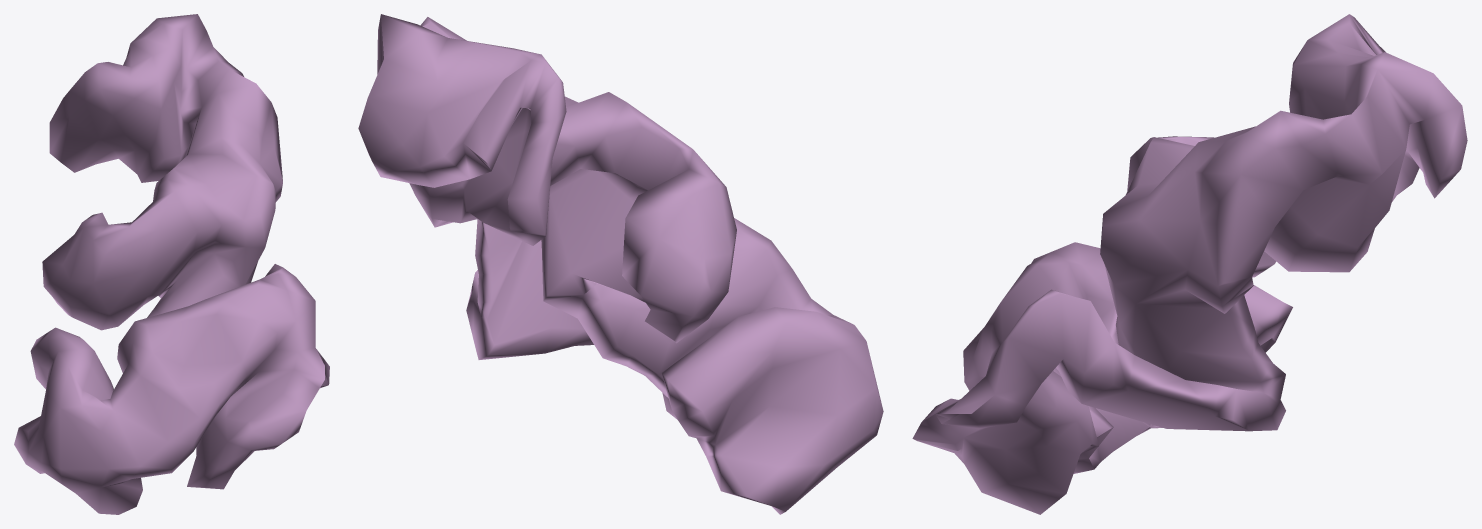
3 renders of one model, left to right at view 1: azimuth 30°, elevation 25°; view 2: azimuth 150°, elevation 25°; view 3: azimuth 270°, elevation 25°, orthographic. The views are drawn at different scales.
Visible parts, largest first — view 1: 右侧顶上小叶; view 2: 右侧顶上小叶; view 3: 右侧顶上小叶.
Boxes of the visible parts, <box> form: 右侧顶上小叶: <box>14,14,329,514</box>; 右侧顶上小叶: <box>358,14,883,514</box>; 右侧顶上小叶: <box>912,14,1467,514</box>.
Bounding box in the file's own units: 0.0535 × 0.0662 × 0.0616.
